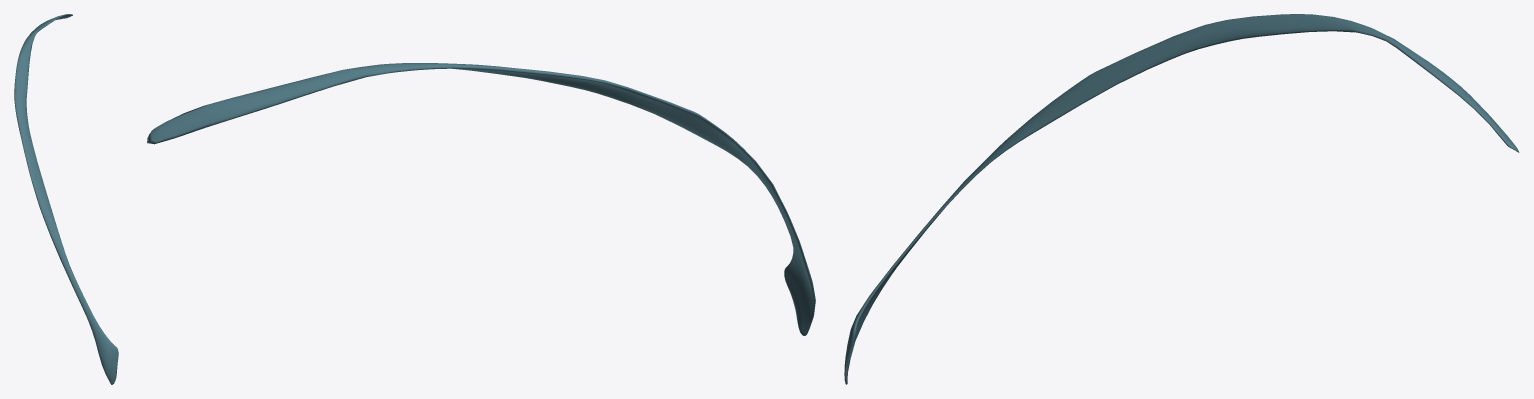
The model's file is Internal_abdominal_oblique_muscle-Iliac_insertion.r_Generated_M.glb.
The picture shows the model from 3 angles, left to right: view 1: azimuth 30°, elevation 25°; view 2: azimuth 150°, elevation 25°; view 3: azimuth 270°, elevation 25°; orthographic projection. The views are drawn at different scales.
Parts seen in each view (by area): view 1: Internal_abdominal_oblique_muscle-Iliac_insertion.r_Generate; view 2: Internal_abdominal_oblique_muscle-Iliac_insertion.r_Generate; view 3: Internal_abdominal_oblique_muscle-Iliac_insertion.r_Generate.
Boxes of the visible parts, x1,y1,x2,y2 form: Internal_abdominal_oblique_muscle-Iliac_insertion.r_Generate: (14,14,118,384); Internal_abdominal_oblique_muscle-Iliac_insertion.r_Generate: (147,63,815,335); Internal_abdominal_oblique_muscle-Iliac_insertion.r_Generate: (844,14,1519,384).
Size of the model in its own units: 0.0527 by 0.0698 by 0.1042.
